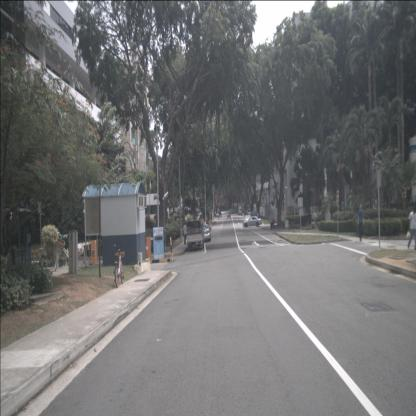human-pedestrian-adult: (407, 206, 416, 250), (357, 204, 365, 242), (183, 222, 187, 245), (313, 210, 317, 226), (269, 214, 273, 229), (272, 214, 275, 230)
movable_object-trafficcone: (145, 237, 150, 258)
vehicle-bicycle: (54, 230, 85, 272), (112, 244, 125, 287)
vehicle-car: (242, 216, 262, 228), (199, 224, 211, 242), (168, 210, 184, 220), (244, 215, 252, 224), (227, 210, 231, 218)
vehicle-truck: (186, 220, 204, 251), (238, 206, 242, 215)
